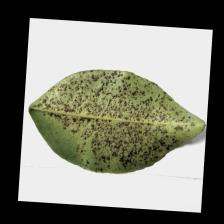canker: (75, 88, 156, 148)
